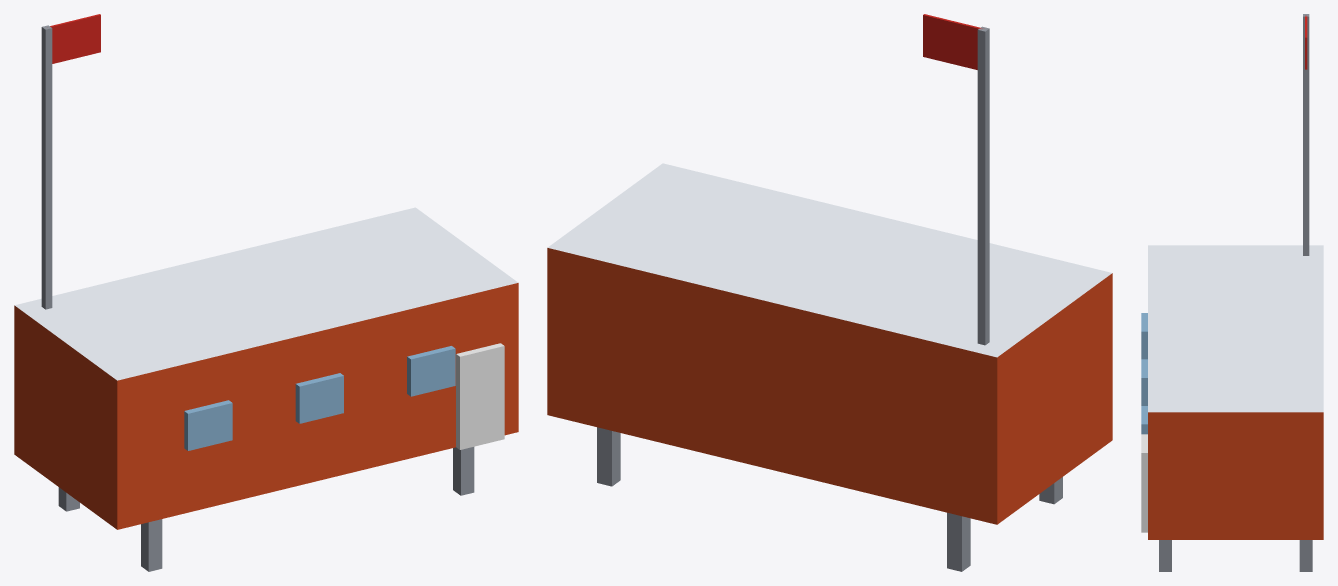
Rendered from modulo_antartico.obj.
3 renders of one model, left to right at view 1: azimuth 30°, elevation 25°; view 2: azimuth 150°, elevation 25°; view 3: azimuth 270°, elevation 25°, orthographic. The views are drawn at different scales.
Visible parts, largest first — view 1: modulo_antartico; view 2: modulo_antartico; view 3: modulo_antartico.
Part boxes in pixels (x1,y1,x2,y2): modulo_antartico: (14, 14, 518, 571); modulo_antartico: (547, 14, 1112, 571); modulo_antartico: (1141, 14, 1323, 571).
Size of the model in its own units: 9 by 10.4 by 4.15.
